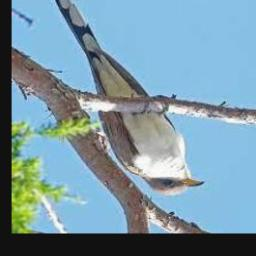Cuckoo: (51, 0, 203, 196)
